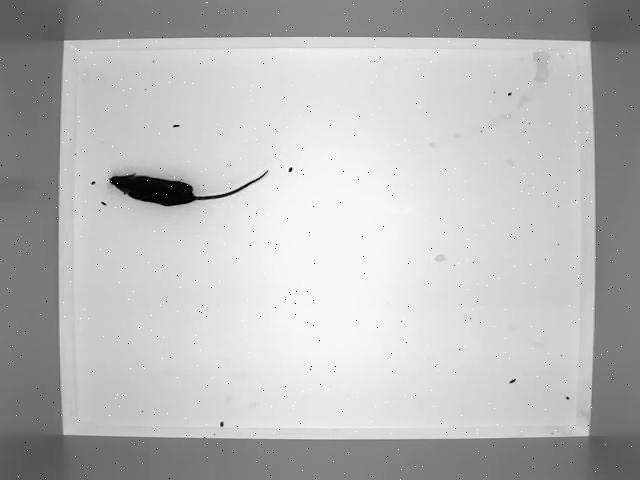Tikus: (110, 168, 270, 206)
